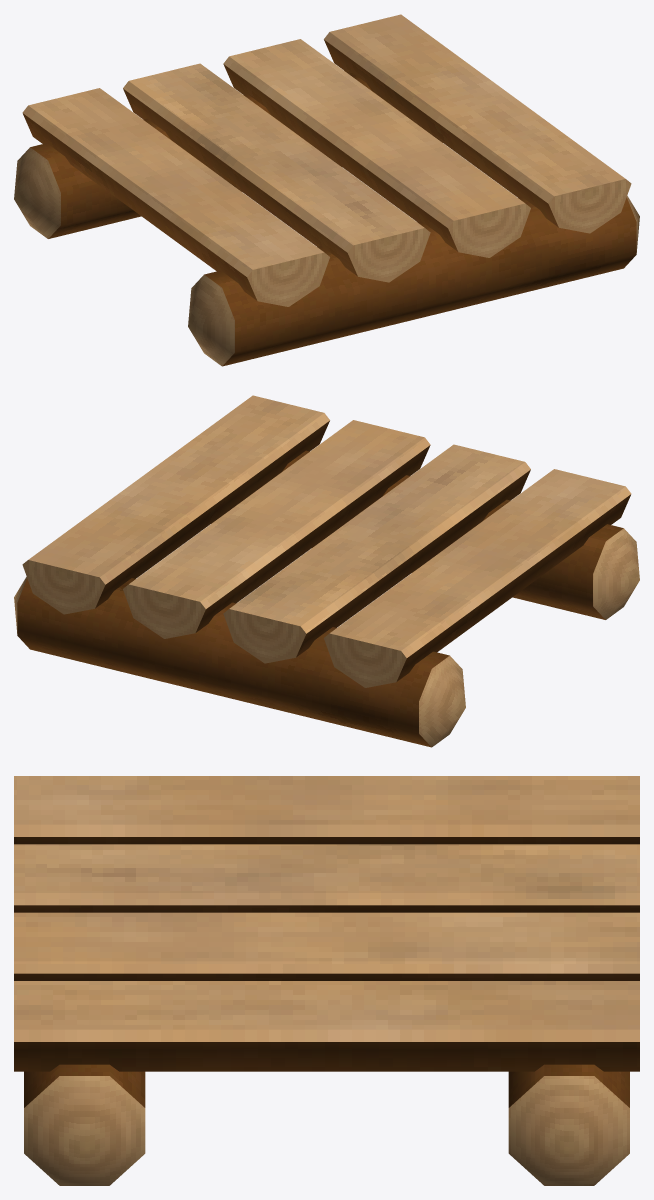
Rendered from Docks_Decking_Flat_1x1.glb.
The picture shows the model from 3 angles, top to bottom: view 1: azimuth 30°, elevation 25°; view 2: azimuth 150°, elevation 25°; view 3: azimuth 270°, elevation 25°; orthographic projection. The views are drawn at different scales.
Visible parts, largest first — view 1: Docks_Decking_Flat_1x1; view 2: Docks_Decking_Flat_1x1; view 3: Docks_Decking_Flat_1x1.
Boxes of the visible parts, box(x1,y1,x2,y2) form: Docks_Decking_Flat_1x1: box(14, 14, 639, 366); Docks_Decking_Flat_1x1: box(14, 395, 639, 747); Docks_Decking_Flat_1x1: box(14, 776, 639, 1185).
Size of the model in its own units: 1.12 by 0.25 by 0.9688.
Materials: 3 (3 with a texture image).
